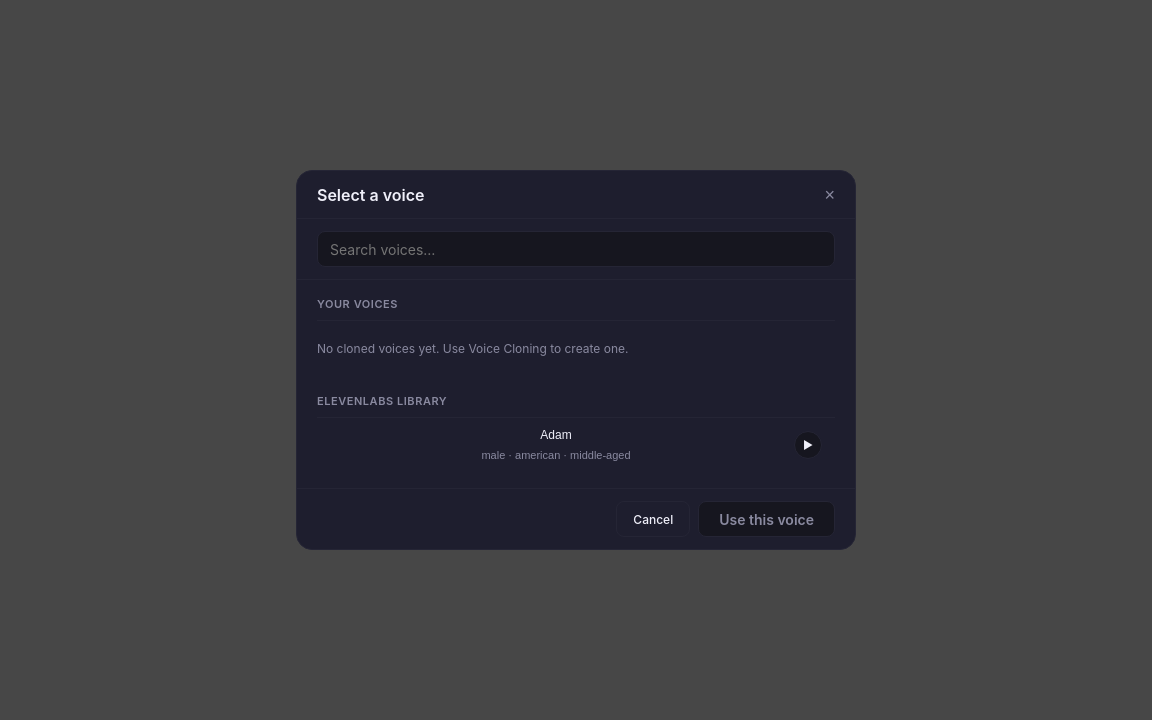
Test: VoicePickerModal — Audio cleanup and dismissal › cleans up audio on modal unmount
Expected: the button "Adam male · american · middle-aged" is shown, [330,427,782,463]
Click the button named "play preview for adam" at [808, 445], box [794,431,822,459]
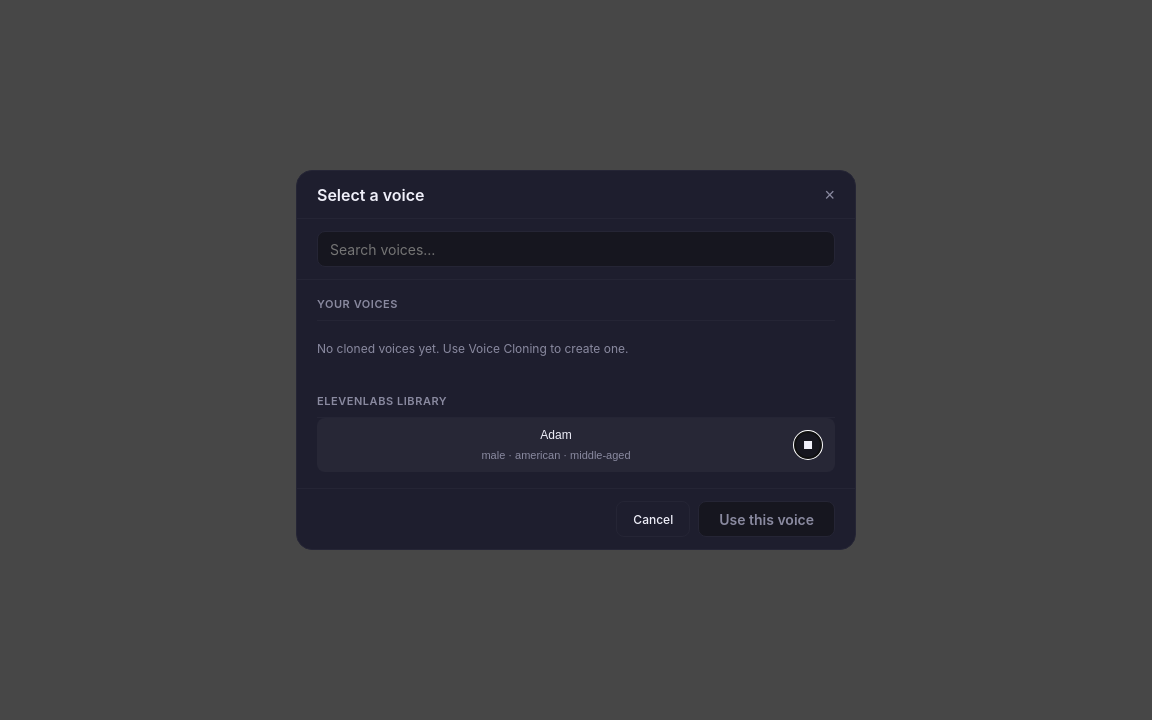
Expected: the button named "stop preview for adam" is shown, [794,431,822,459]
